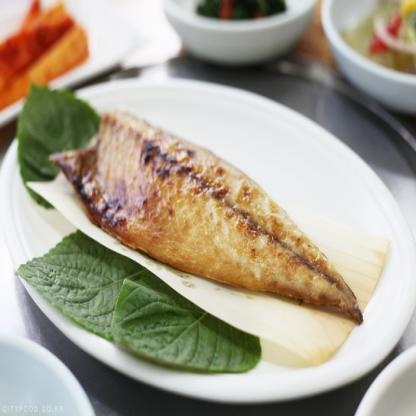Peixe: (60, 111, 364, 330)
